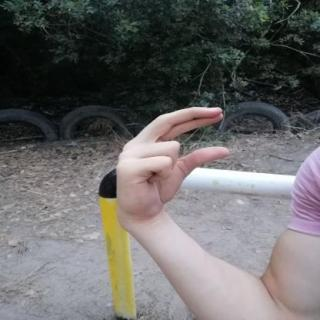DHELL: (107, 101, 237, 233)
